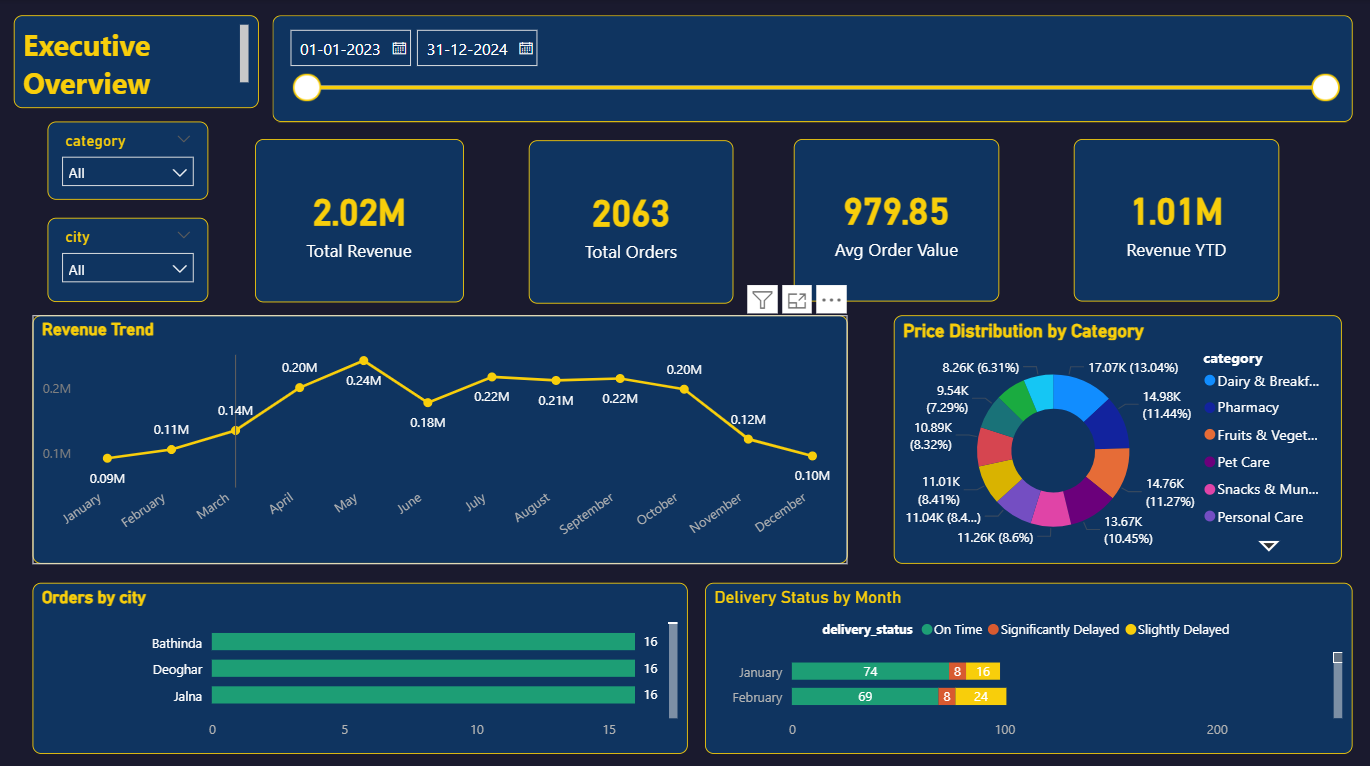

This screenshot's page, from the dashboard's own definition file:
{"tool":"powerbi","page":{"name":"Executive Overview","canvas":[1280,720],"ordinal":0},"visuals":[{"type":"card","fields":{"Values":["_Measures.Total Revenue Old"]},"box":[237.2,130.2,194.2,152.3],"z":0},{"type":"card","fields":{"Values":["_Measures.Total Orders"]},"box":[491.9,131.4,190.7,152.3],"z":1000},{"type":"card","fields":{"Values":["_Measures.Avg Order Value"]},"box":[738.6,130,191.4,151.4],"z":2000},{"type":"card","fields":{"Values":["_Measures.Revenue YTD"]},"box":[998.6,130,191.4,151.4],"z":3000},{"type":"lineChart","title":"Revenue Trend","fields":{"Y":["_Measures.Total Revenue"],"Category":["Date Table.Month Name"]},"box":[30,294.3,758.6,231.4],"z":4000},{"type":"donutChart","title":"Price Distribution by Category","fields":{"Category":["products.category"],"Y":["Sum(products.price)"]},"box":[831.4,294.3,417.1,231.4],"z":5000},{"type":"clusteredBarChart","title":" Orders by city","fields":{"Category":["customers.area"],"Y":["_Measures.Total Orders"]},"box":[30.2,543,609.3,159.3],"z":6000},{"type":"barChart","title":"Delivery Status by Month","fields":{"Category":["Date Table.Month Name"],"Y":["_Measures.Total Orders"],"Series":["orders.delivery_status"]},"box":[655.9,543.4,602,159.2],"z":7000},{"type":"slicer","title":"Date Range","fields":{"Values":["Date Table.Date"]},"box":[253.5,15.1,1004.7,98.8],"z":8000},{"type":"slicer","fields":{"Values":["customers.area"]},"box":[43.9,203.1,149.6,78.2],"z":9000},{"type":"slicer","fields":{"Values":["products.category"]},"box":[43.9,113.9,149.6,72.7],"z":10000},{"type":"textbox","box":[12.3,15.1,227.8,86.4],"z":11000}]}

Visuals, with their boxes in screenshot pixels (x1, y1, x2, y2), scaled from the page's 1280x720 canvas onto the 1370x766 screenshot:
card - _Measures.Total Revenue Old: 254, 139, 462, 301
card - _Measures.Total Orders: 526, 140, 731, 302
card - _Measures.Avg Order Value: 791, 138, 995, 299
card - _Measures.Revenue YTD: 1069, 138, 1274, 299
"Revenue Trend" lineChart: 32, 313, 844, 559
"Price Distribution by Category" donutChart: 890, 313, 1336, 559
" Orders by city" clusteredBarChart: 32, 578, 684, 747
"Delivery Status by Month" barChart: 702, 578, 1346, 747
"Date Range" slicer: 271, 16, 1347, 121
slicer - customers.area: 47, 216, 207, 299
slicer - products.category: 47, 121, 207, 199
textbox: 13, 16, 257, 108
